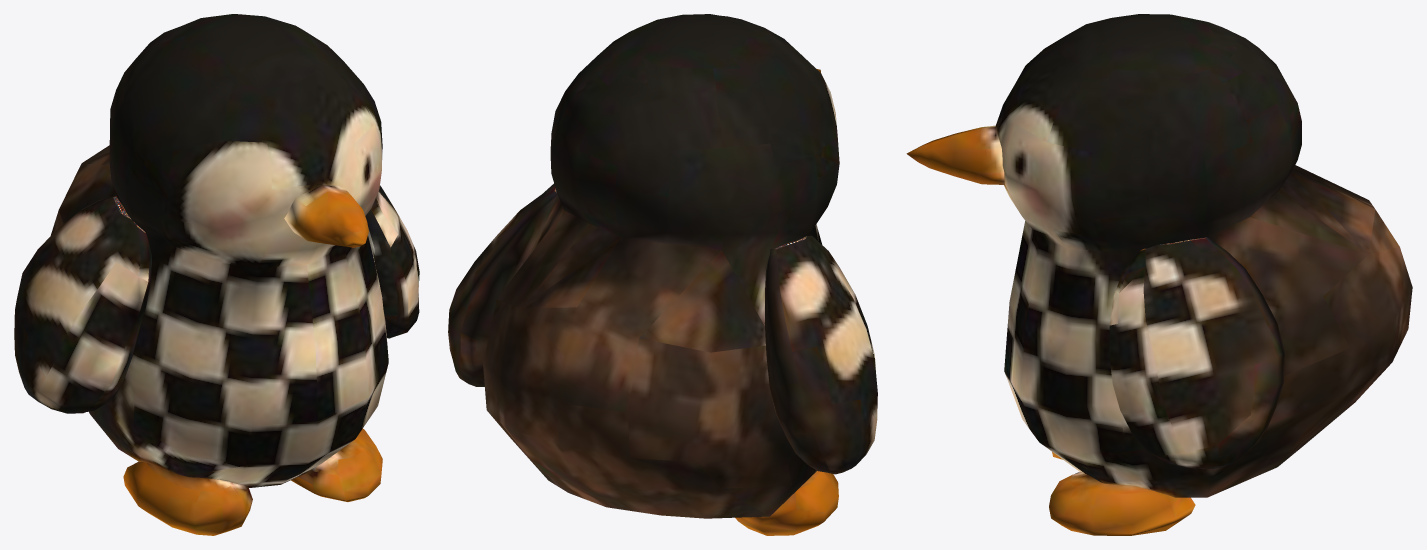
Rendered from penguin-01-34-checkerboard.gltf.
3 renders of one model, left to right at view 1: azimuth 30°, elevation 25°; view 2: azimuth 150°, elevation 25°; view 3: azimuth 270°, elevation 25°, orthographic. The views are drawn at different scales.
Visible parts, largest first — view 1: penguin-01-34-checkerboard; view 2: penguin-01-34-checkerboard; view 3: penguin-01-34-checkerboard.
Boxes of the visible parts, x1=… form: penguin-01-34-checkerboard: x1=14, y1=14, x2=419, y2=535; penguin-01-34-checkerboard: x1=448, y1=14, x2=877, y2=535; penguin-01-34-checkerboard: x1=906, y1=14, x2=1412, y2=535.
Size of the model in its own units: 0.2 by 0.2271 by 0.2261.
1 material, 1 textured.
